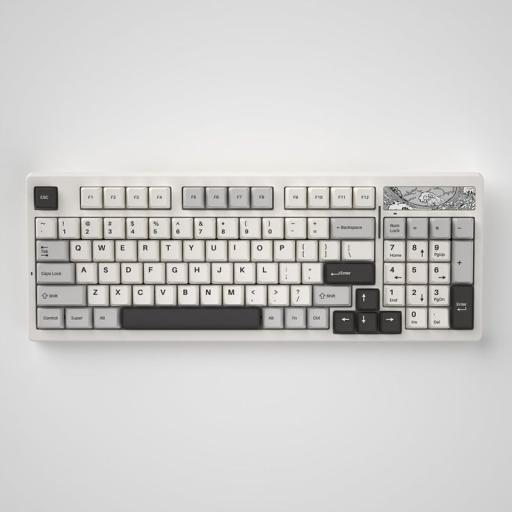keyboard: (26, 173, 483, 342)
